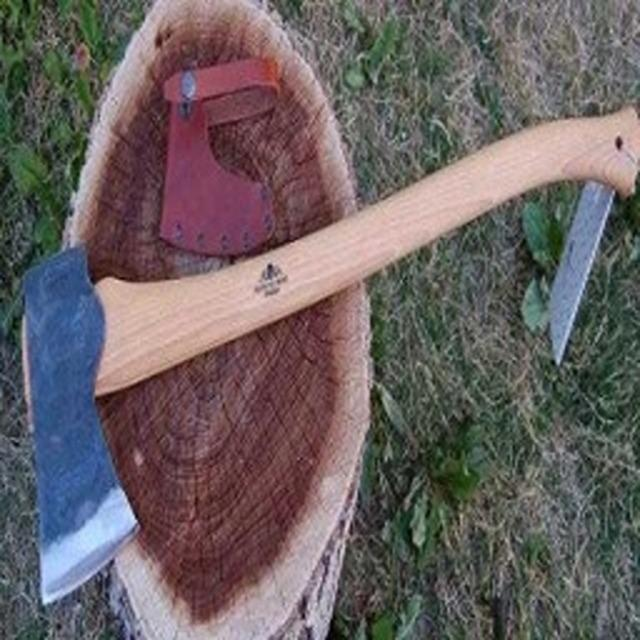ax: (3, 100, 640, 613)
